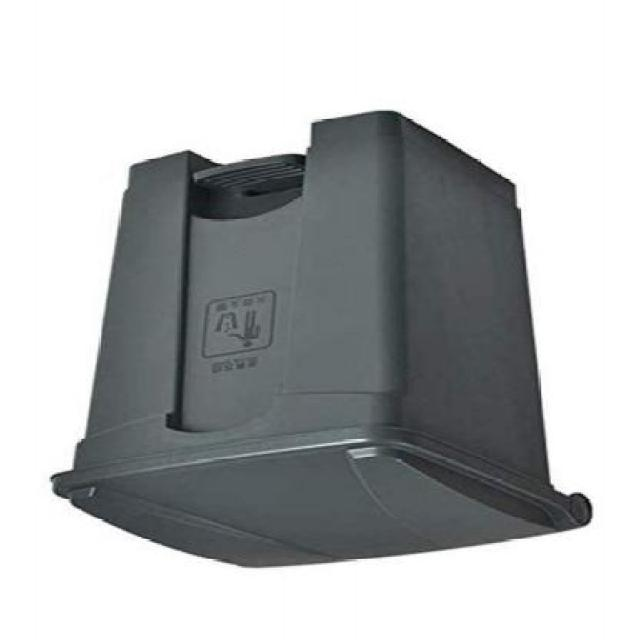garbage container: (27, 97, 610, 583)
